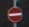No entry: (5, 5, 24, 22)
